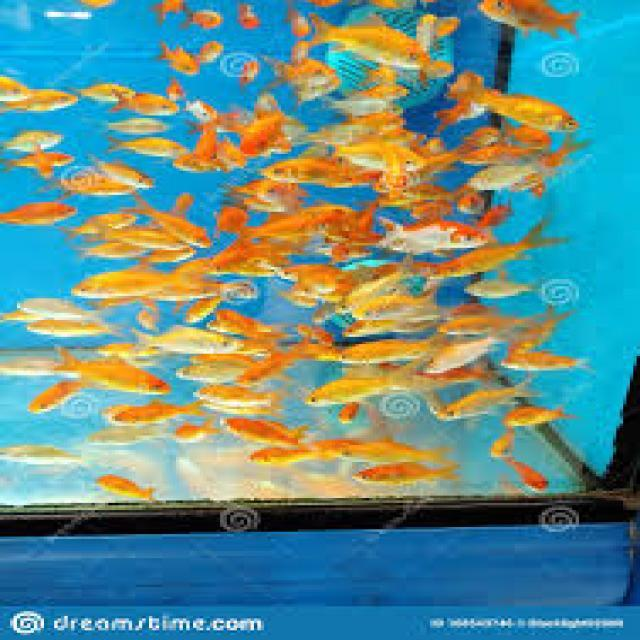goldfish: (438, 72, 582, 146), (50, 340, 179, 400)
